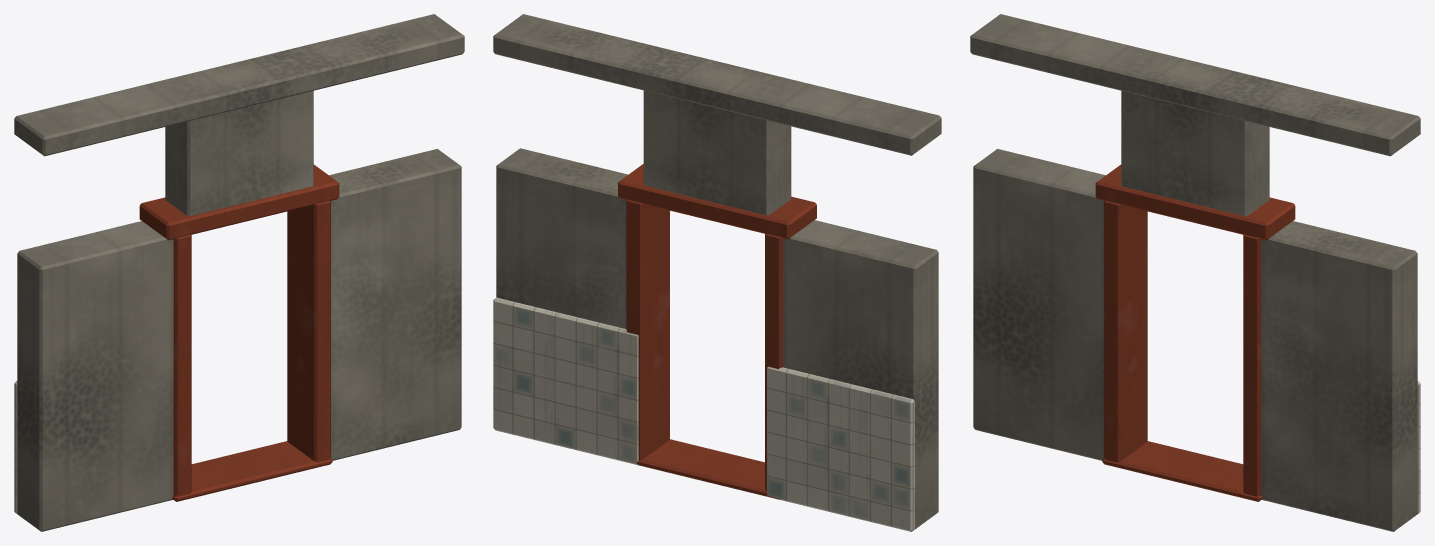
File: WK_WALL_DOORWAY_A_01.glb
3 views of the same model, side by side, from view 1: azimuth 30°, elevation 25°; view 2: azimuth 150°, elevation 25°; view 3: azimuth 330°, elevation 25° (orthographic).
Parts seen in each view (by area): view 1: WK_WALL_DOORWAY_A_01; view 2: WK_WALL_DOORWAY_A_01; view 3: WK_WALL_DOORWAY_A_01.
Boxes of the visible parts, x1,y1,x2,y2 form: WK_WALL_DOORWAY_A_01: [14, 14, 464, 531]; WK_WALL_DOORWAY_A_01: [493, 14, 941, 531]; WK_WALL_DOORWAY_A_01: [970, 14, 1420, 531].
Size of the model in its own units: 4 by 3.6 by 0.5.
Materials: 3 (3 with a texture image).
